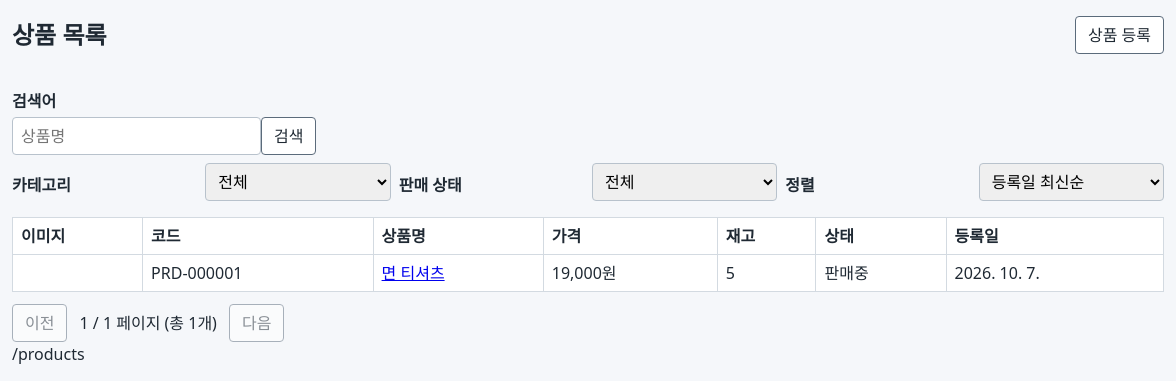
Test: 상품 목록의 검색·필터·정렬 › 카테고리·판매 상태·정렬을 바꾸면 해당 파라미터로 다시 조회한다
Check: the link "면 티셔츠" is shown, box [382, 262, 445, 284]
Select "의류" in the dropdown labelled "카테고리" at (298, 182), box [205, 163, 391, 201]
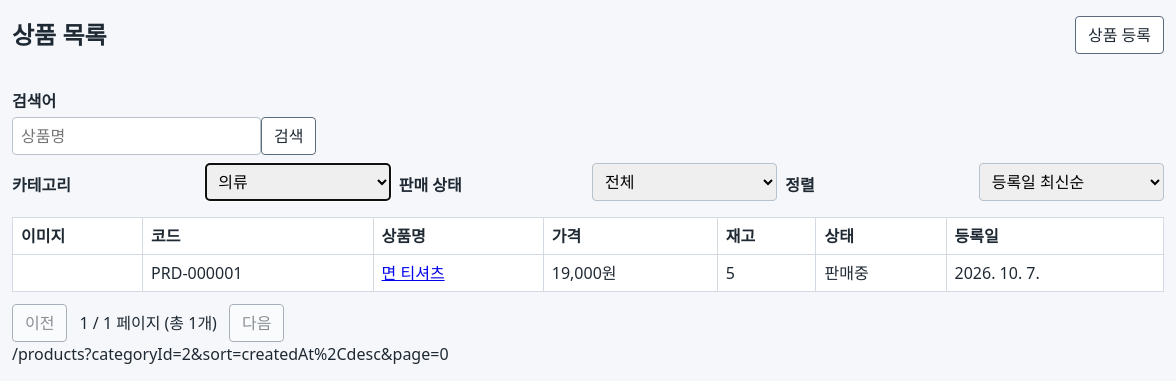
Select "숨김" in the dropdown labelled "판매 상태" at (685, 182), box [592, 163, 777, 201]
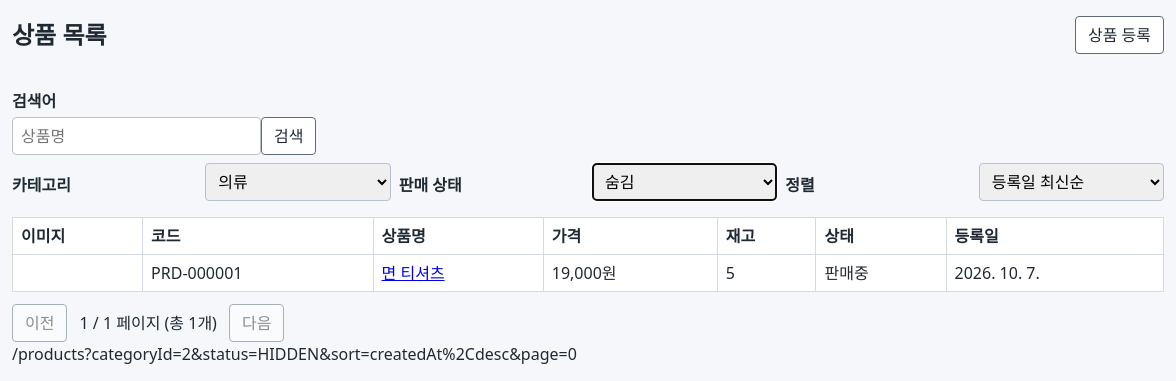
Select "가격 낮은순" in the dropdown labelled "정렬" at (1071, 182), box [979, 163, 1164, 201]
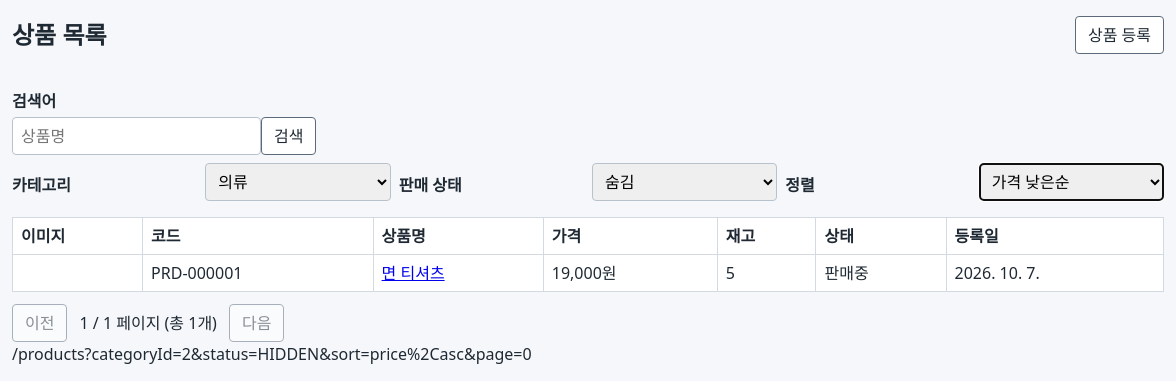
Check: the text with test id "location" shows "sort=price%2Casc", box [12, 343, 532, 365]
